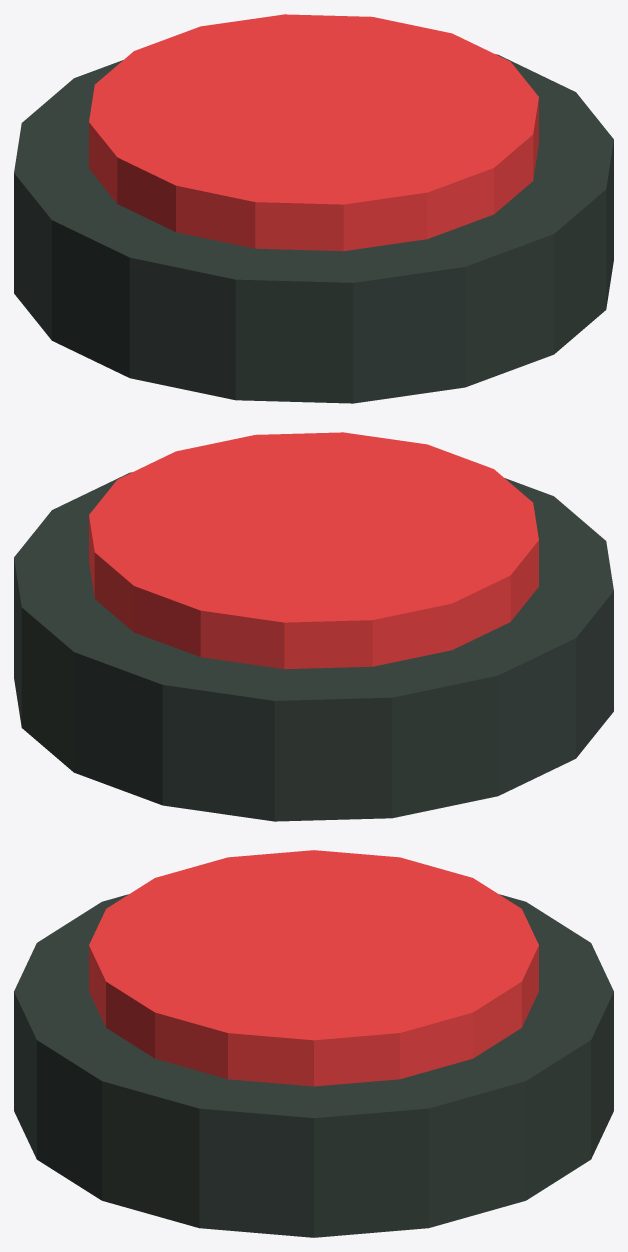
Rendered from signal-red.glb.
3 renders of one model, top to bottom at view 1: azimuth 30°, elevation 25°; view 2: azimuth 150°, elevation 25°; view 3: azimuth 270°, elevation 25°, orthographic.
Visible parts, largest first — view 1: Signal base, Signal lens; view 2: Signal base, Signal lens; view 3: Signal base, Signal lens.
Boxes of the visible parts, left/top/right/bottom form: Signal base: left=14, top=54, right=613, bottom=403; Signal lens: left=89, top=14, right=538, bottom=251; Signal base: left=14, top=472, right=613, bottom=821; Signal lens: left=89, top=432, right=538, bottom=669; Signal base: left=14, top=894, right=613, bottom=1237; Signal lens: left=89, top=850, right=538, bottom=1086.
Bounding box in the file's own units: 0.2 × 0.061 × 0.2.
